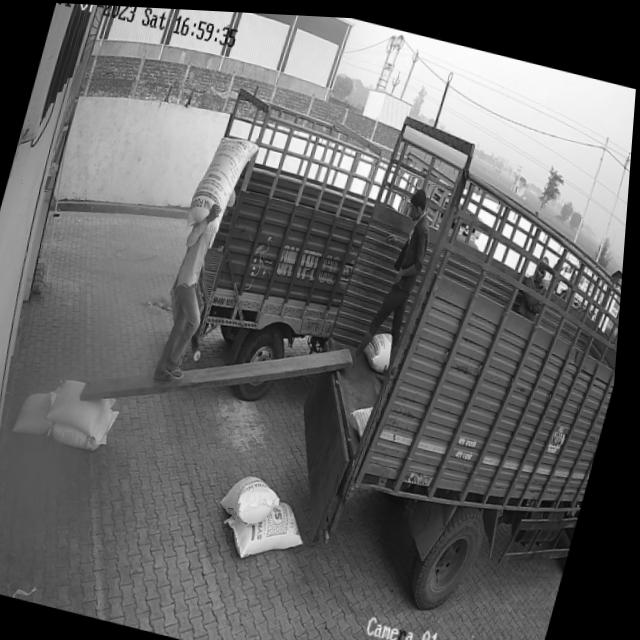sack: (223, 484, 321, 569), (189, 128, 262, 233), (50, 375, 126, 443), (54, 394, 126, 452), (226, 467, 291, 527), (17, 384, 66, 441)
